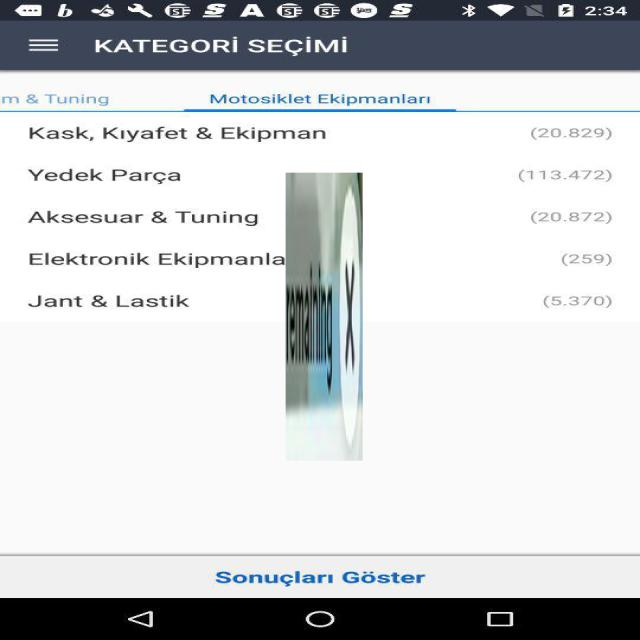misdirection: (286, 172, 362, 460)
